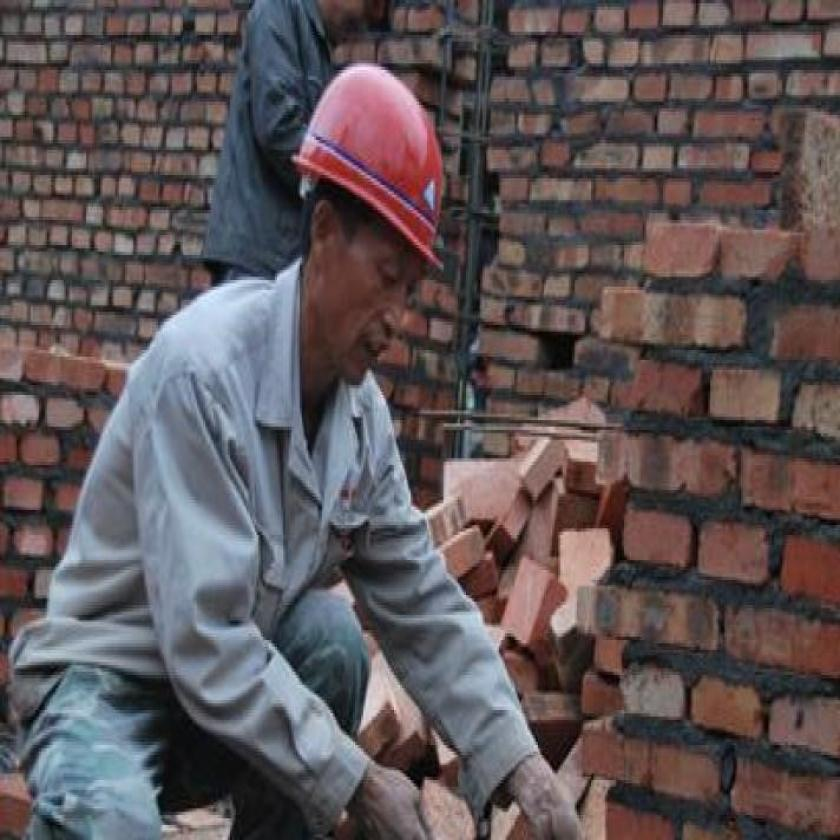Con_casco: (283, 59, 451, 387)
